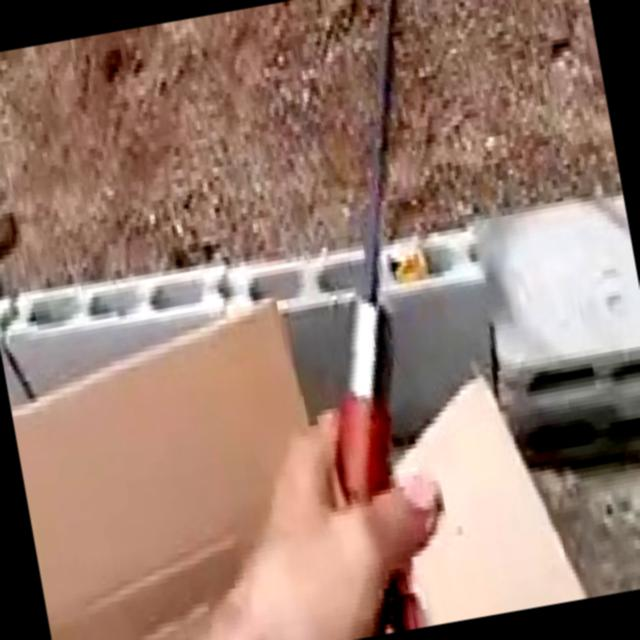eto: (337, 0, 398, 636)
